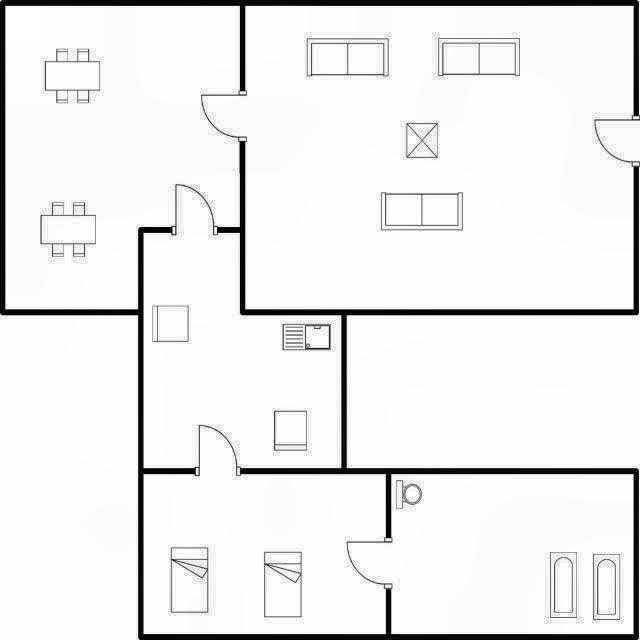room: (245, 6, 634, 309), (5, 6, 240, 309), (144, 233, 341, 468), (391, 474, 634, 634), (144, 474, 386, 634)
